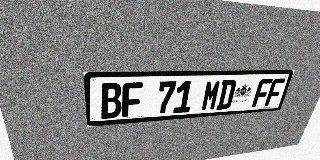1: (173, 81, 194, 113)
7: (155, 81, 176, 115)
B: (100, 83, 122, 119)
D: (216, 79, 237, 110)
F: (122, 82, 143, 117), (251, 79, 273, 107), (264, 78, 286, 106)
M: (200, 80, 222, 111)
